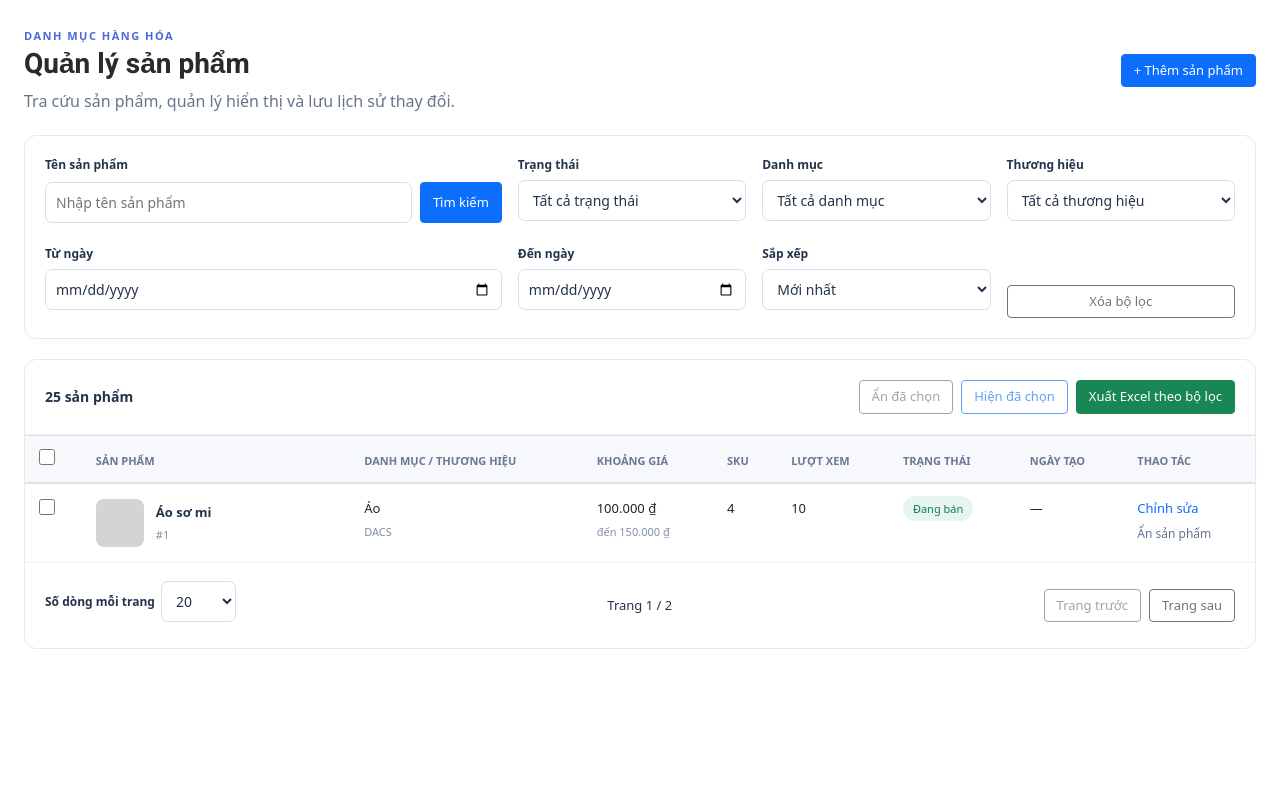
hide/restore requires an explicit reason, prevents duplicate submissions and keeps current filters
Expected: the link "Áo sơ mi" is shown, [156,503,212,522]
Select "Đang bán" in the dropdown labelled "Trạng thái" at (632, 201), box [518,180,746,221]
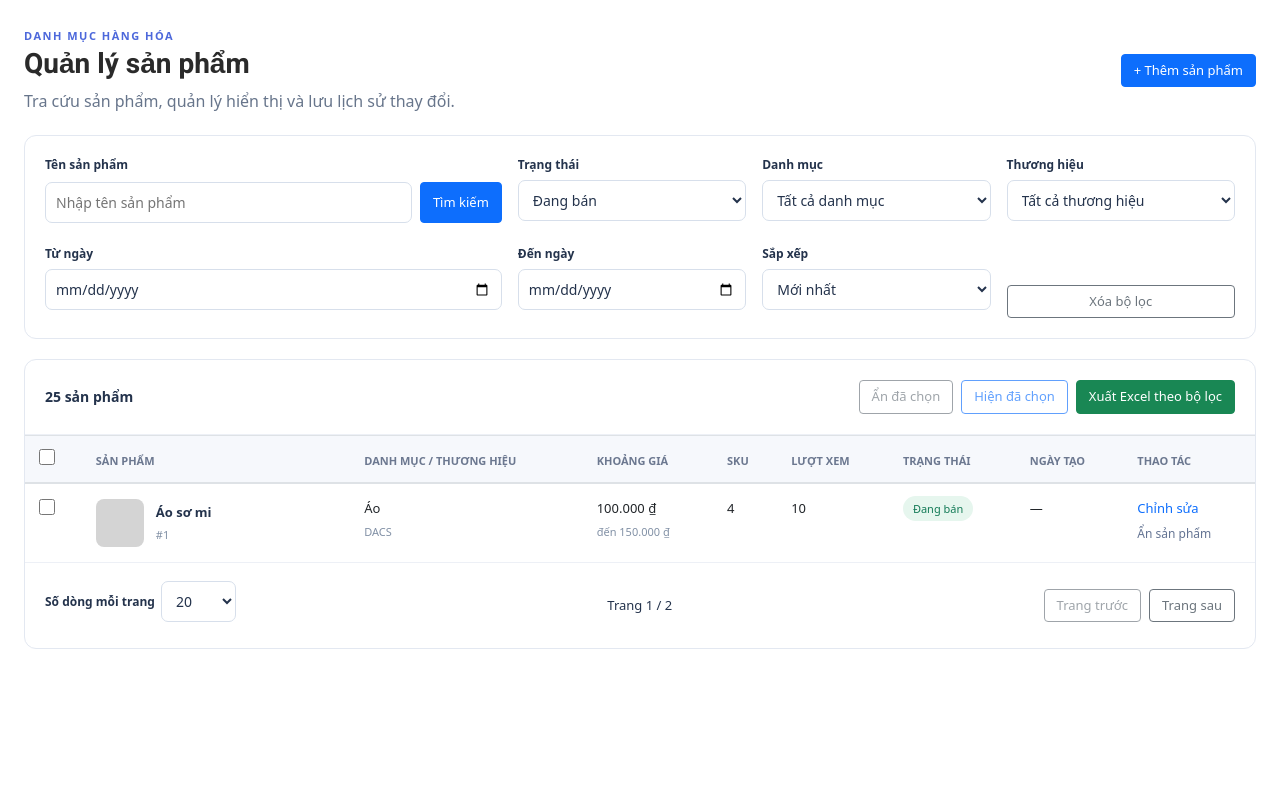
Expected: the link "Áo sơ mi" is shown, [156,503,212,522]
Click the button "Ẩn sản phẩm" at (1189, 534), box [1137,525,1241,543]
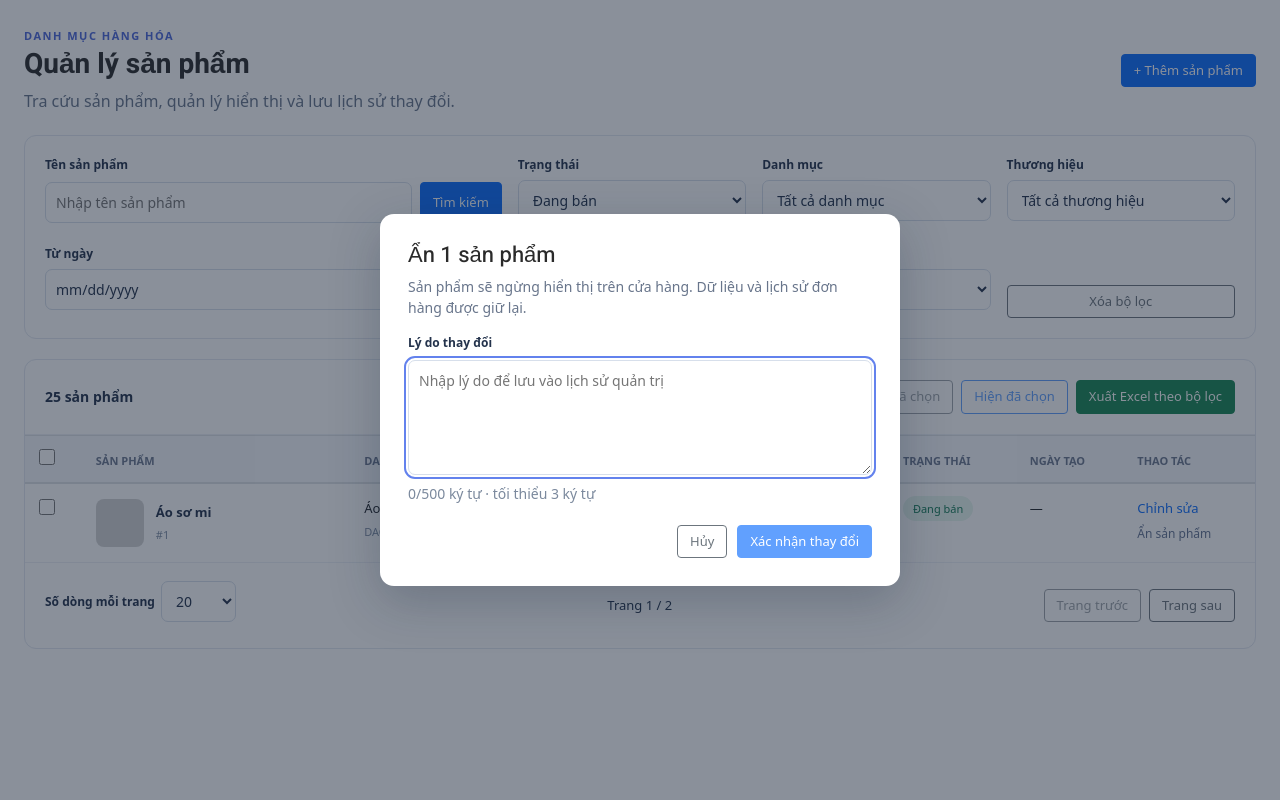
Expected: the dialog is shown, [380,214,900,586]
Expected: the button "Xác nhận thay đổi" is disabled, [737,525,872,558]
Type "  Tạm ngừng bán  " into the text box labelled "Lý do thay đổi" at (640, 417), box [408,360,872,475]
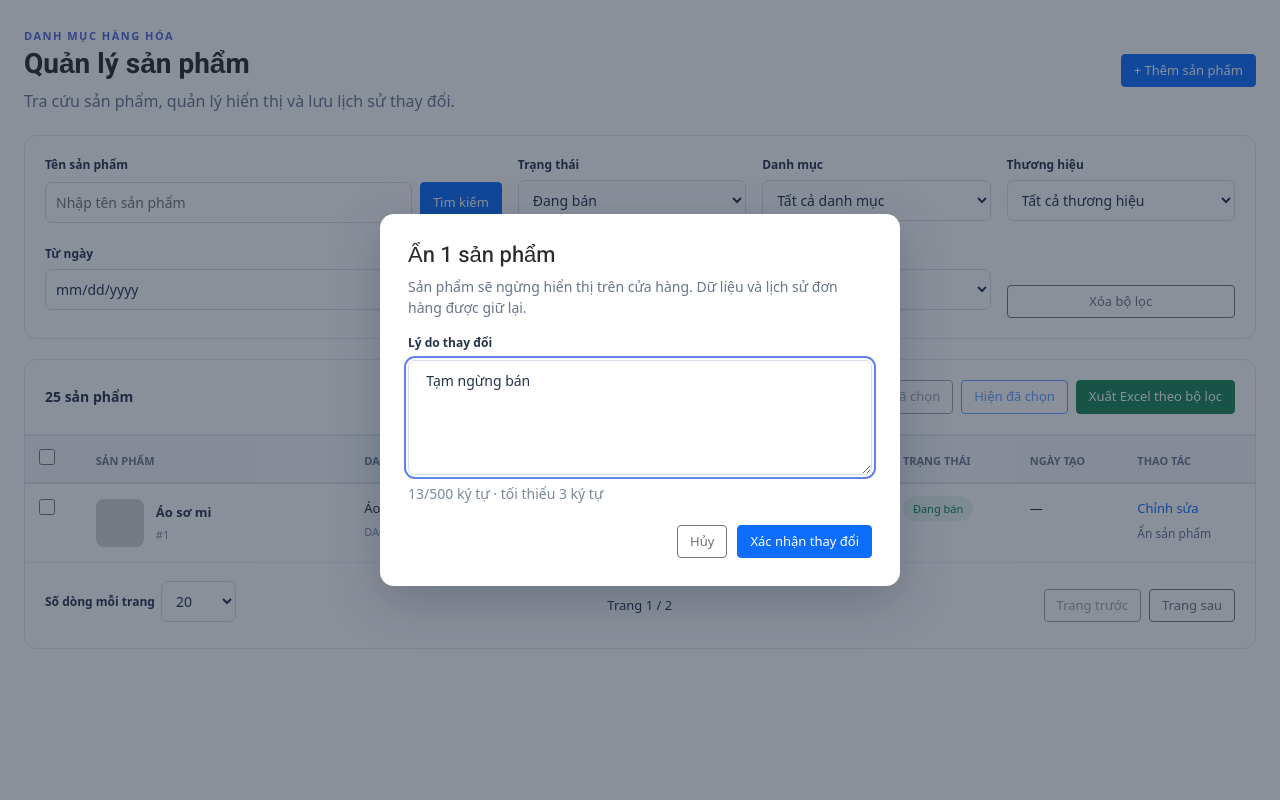
Click the button "Xác nhận thay đổi" at (805, 542), box [737,525,872,558]
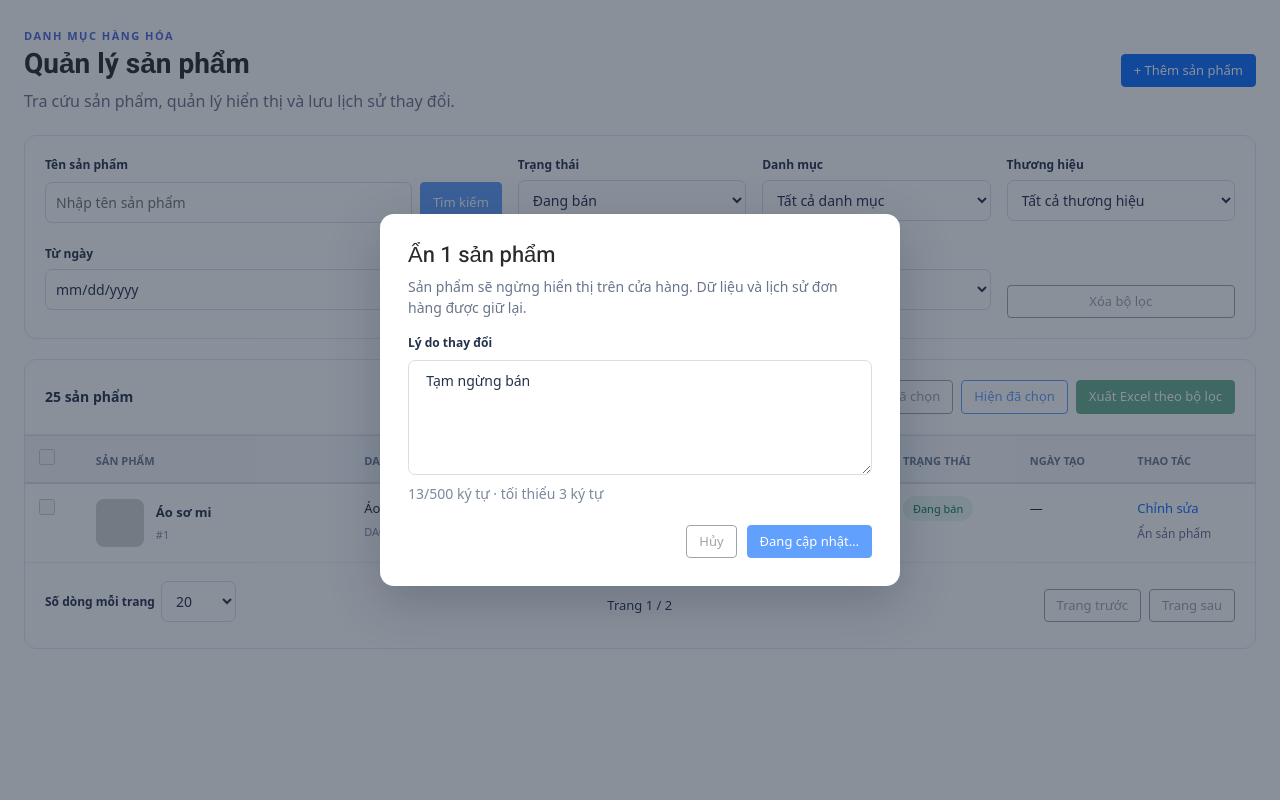
Click the button "Đang cập nhật…" at (809, 542), box [747,525,872,558]
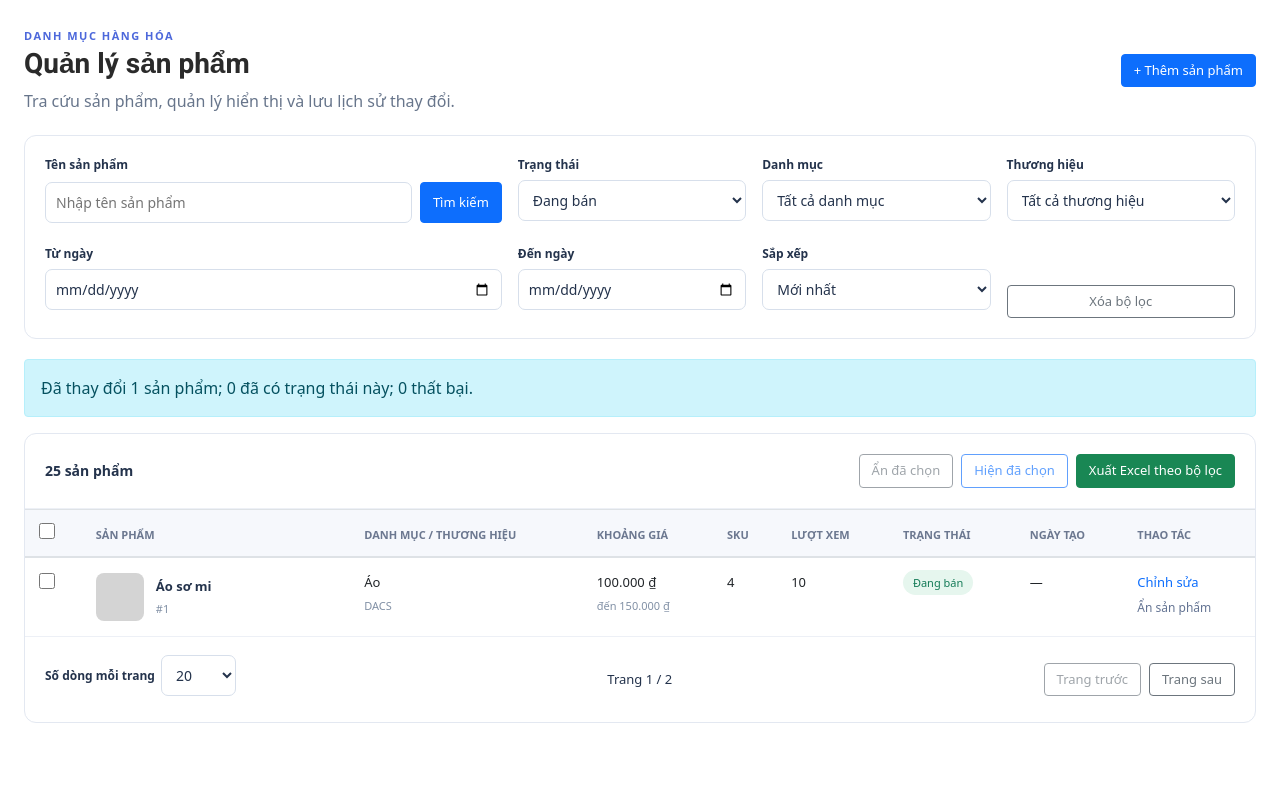
Expected: the text "Đã thay đổi 1 sản phẩm; 0 đã có trạng thái này; 0 thất bại." is shown, [24,359,1256,417]
